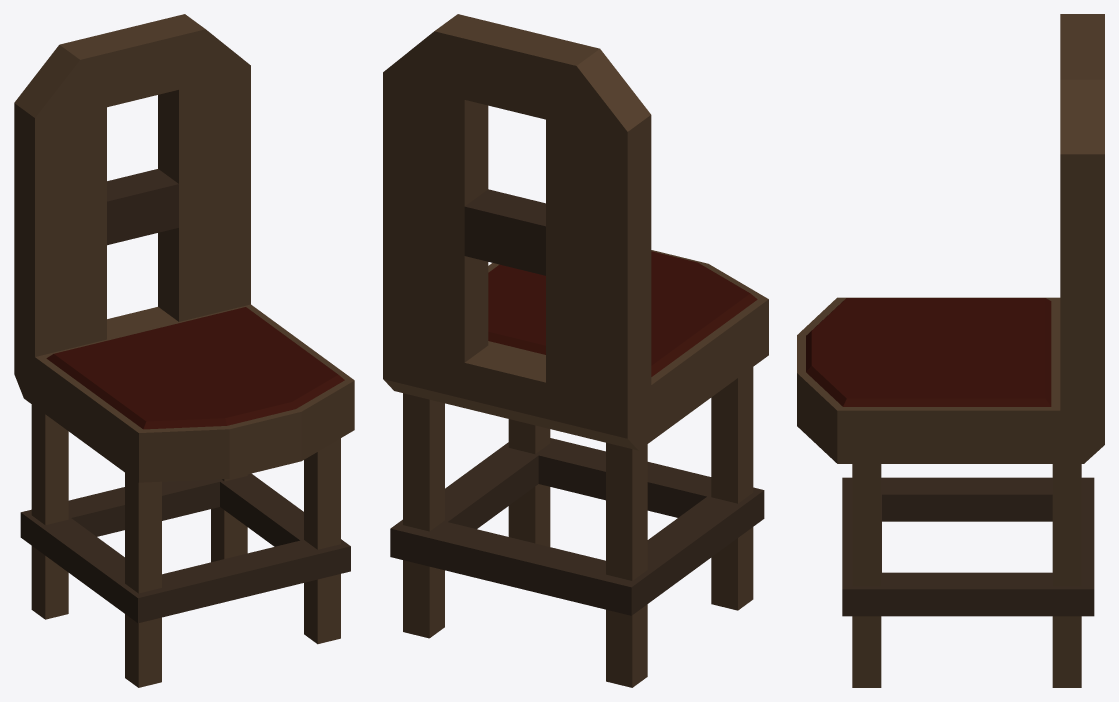
The model's file is Stuhl.fbx.
3 views of the same model, side by side, from view 1: azimuth 30°, elevation 25°; view 2: azimuth 150°, elevation 25°; view 3: azimuth 270°, elevation 25° (orthographic). The views are drawn at different scales.
Visible parts, largest first — view 1: Cube.001; view 2: Cube.001; view 3: Cube.001.
Part boxes in pixels (left/top/right/bottom): Cube.001: left=14, top=14, right=354, bottom=687; Cube.001: left=383, top=14, right=768, bottom=687; Cube.001: left=797, top=14, right=1104, bottom=687.
Size of the model in its own units: 84.67 by 205 by 97.4.
